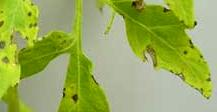Tomato leaf bacterial spot: (94, 0, 212, 102), (0, 0, 47, 112), (54, 40, 112, 112)
